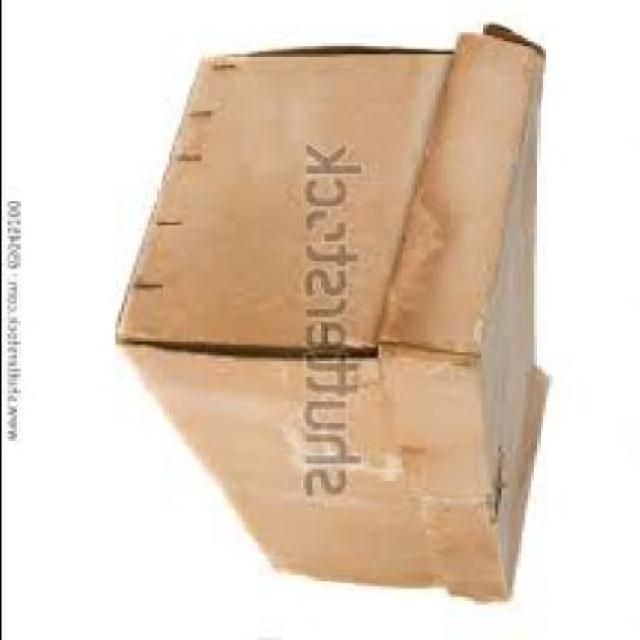cardboard: (120, 31, 554, 615)
